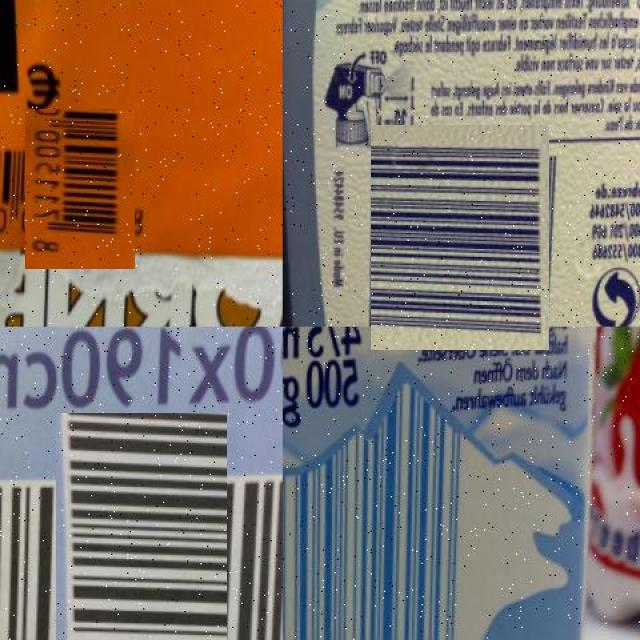Barcode: (283, 367, 482, 640), (29, 442, 255, 640), (359, 137, 562, 338), (12, 121, 148, 256)
